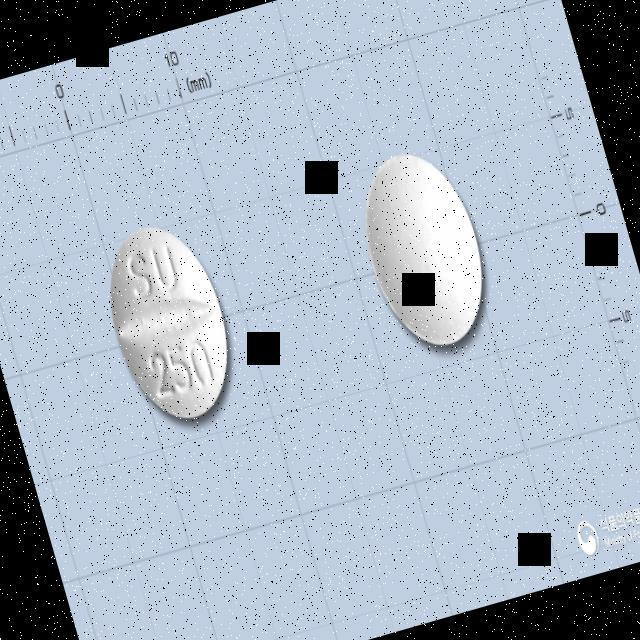Ciptec: (86, 208, 255, 438)
